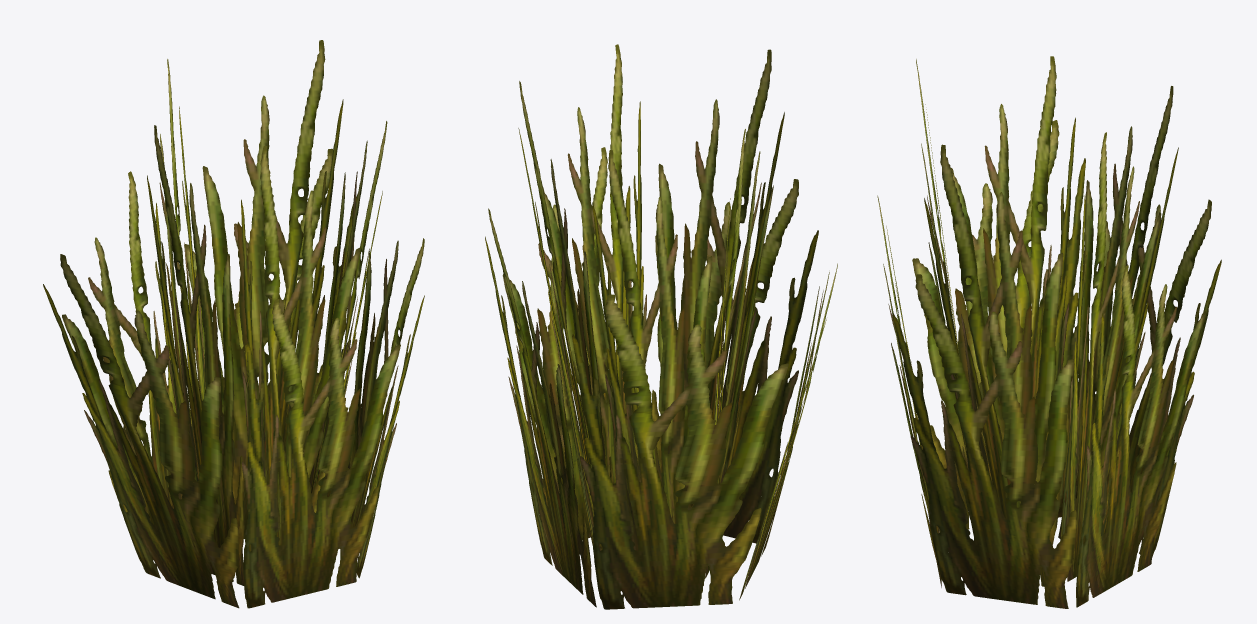
File: swampplant04.obj
3 renders of one model, left to right at view 1: azimuth 30°, elevation 25°; view 2: azimuth 150°, elevation 25°; view 3: azimuth 270°, elevation 25°, orthographic. The views are drawn at different scales.
Visible parts, largest first — view 1: swampplant04; view 2: swampplant04; view 3: swampplant04.
Part boxes in pixels (x1=…): swampplant04: x1=43, y1=40, x2=424, y2=608; swampplant04: x1=485, y1=44, x2=837, y2=609; swampplant04: x1=877, y1=56, x2=1221, y2=608.
Bounding box in the file's own units: 3.28 × 4.32 × 2.87.
Materials: 1 (1 with a texture image).
